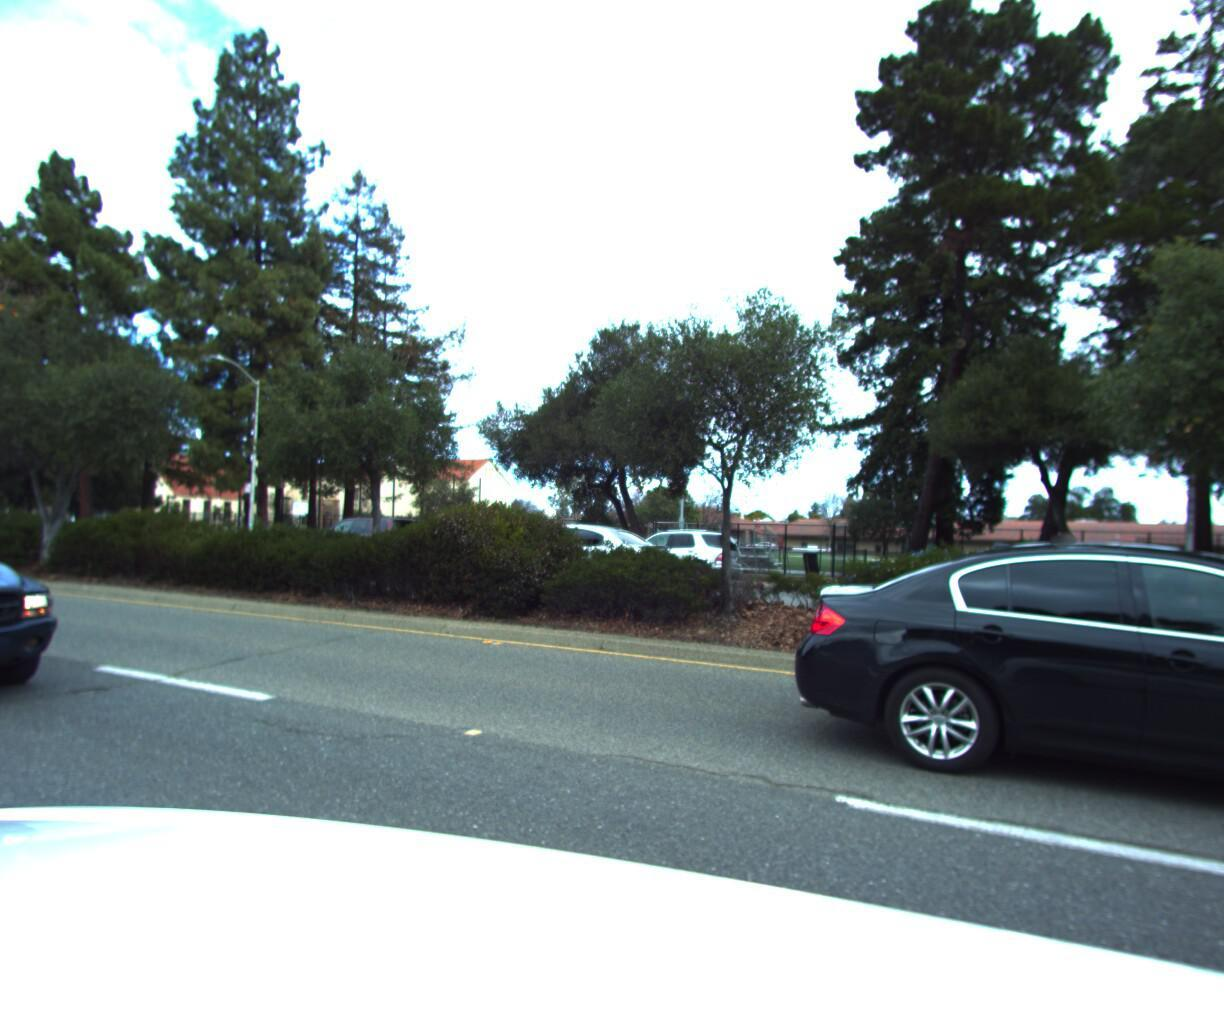car: (756, 531, 1224, 921), (0, 455, 81, 746), (482, 515, 684, 594), (837, 539, 1014, 604), (596, 521, 749, 586), (1116, 547, 1224, 627), (336, 510, 460, 567)
